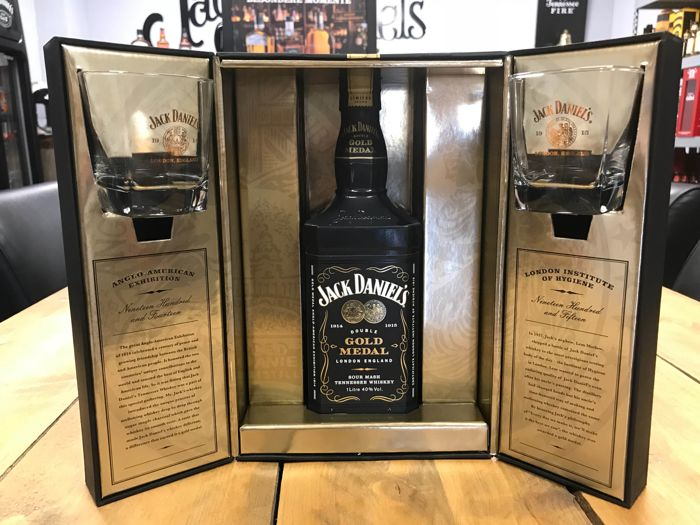Jack Daniel: (290, 55, 434, 426)
